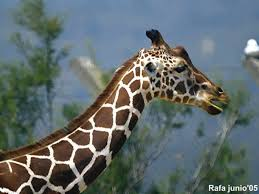Jirafa: (85, 22, 245, 142)
